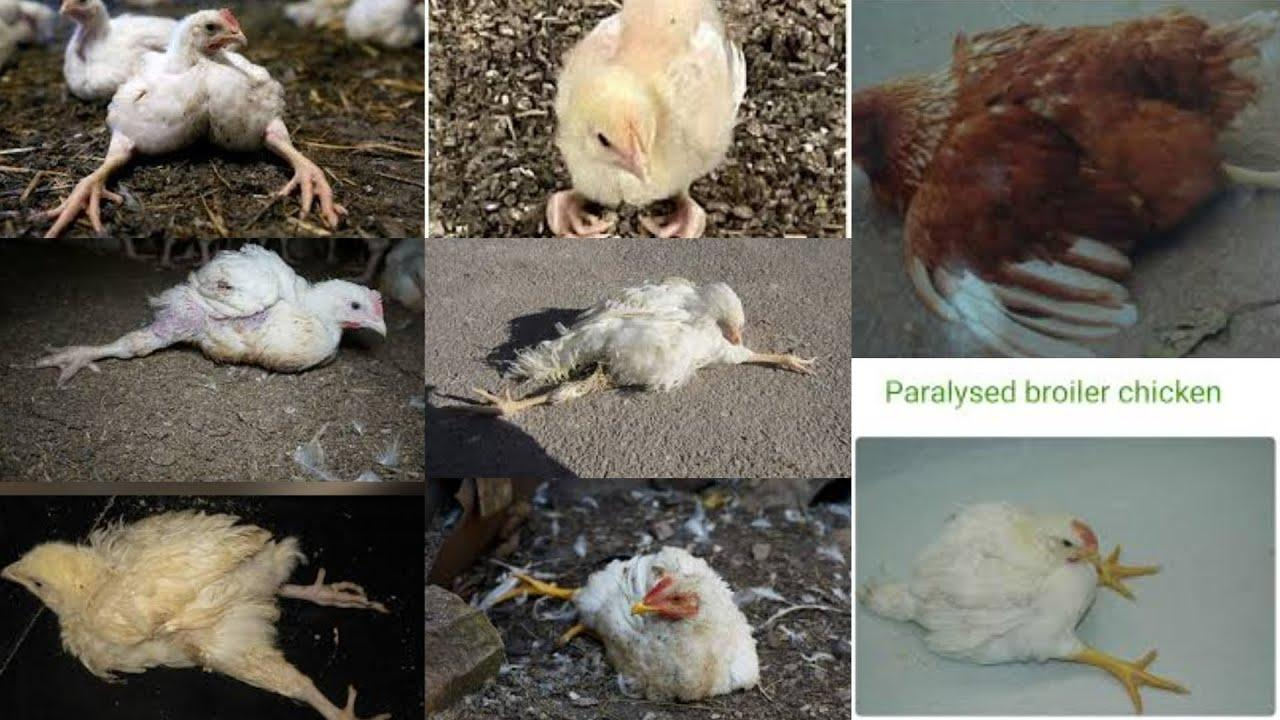AbNormal: (857, 10, 1273, 350), (3, 523, 390, 717), (865, 490, 1201, 704), (59, 13, 357, 228), (499, 16, 752, 236), (457, 277, 829, 426), (26, 250, 392, 386), (485, 532, 774, 702)
